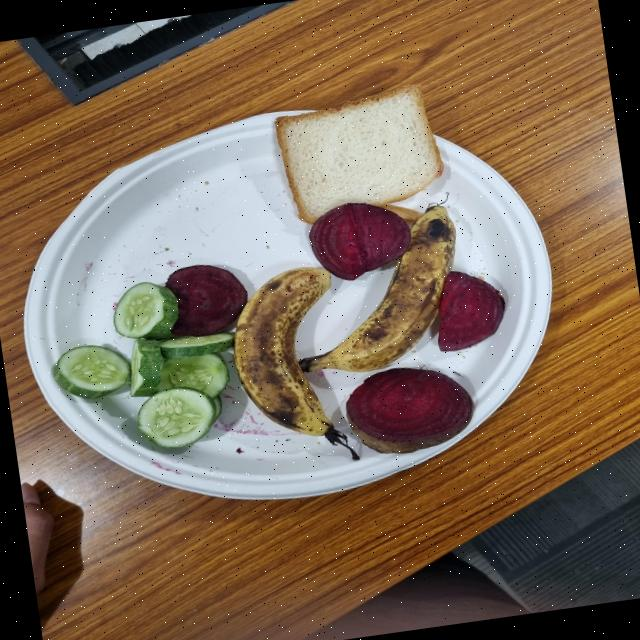banana: (131, 260, 344, 354), (50, 191, 274, 271)
cucumber: (39, 116, 191, 193), (113, 55, 188, 119), (187, 96, 268, 148)
